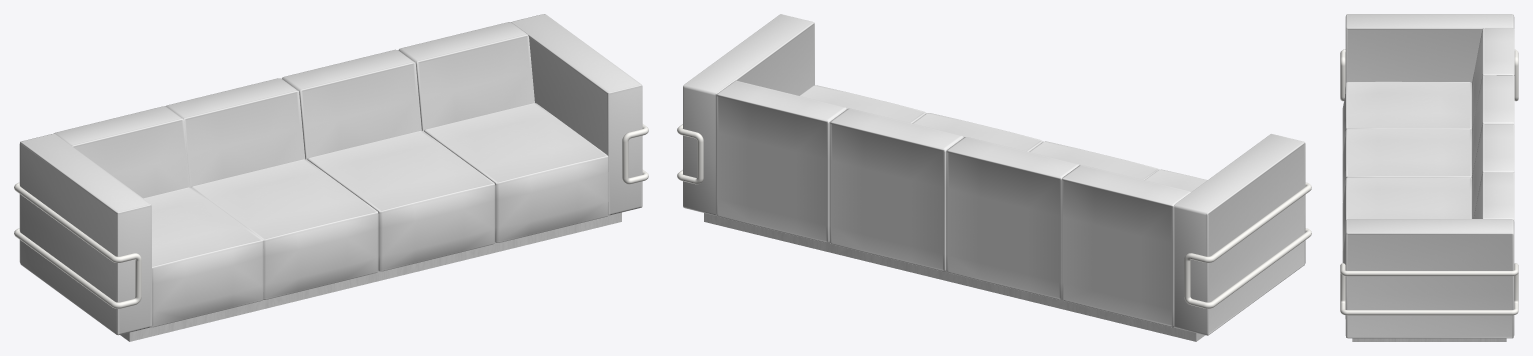
File: Sofa08_3.FBX
3 renders of one model, left to right at view 1: azimuth 30°, elevation 25°; view 2: azimuth 150°, elevation 25°; view 3: azimuth 270°, elevation 25°, orthographic. The views are drawn at different scales.
Parts seen in each view (by area): view 1: Sofa08_3; view 2: Sofa08_3; view 3: Sofa08_3.
Boxes of the visible parts, x1,y1,x2,y2 form: Sofa08_3: [14, 14, 648, 341]; Sofa08_3: [677, 14, 1311, 341]; Sofa08_3: [1340, 14, 1518, 341].
Size of the model in its own units: 462 by 112 by 155.
